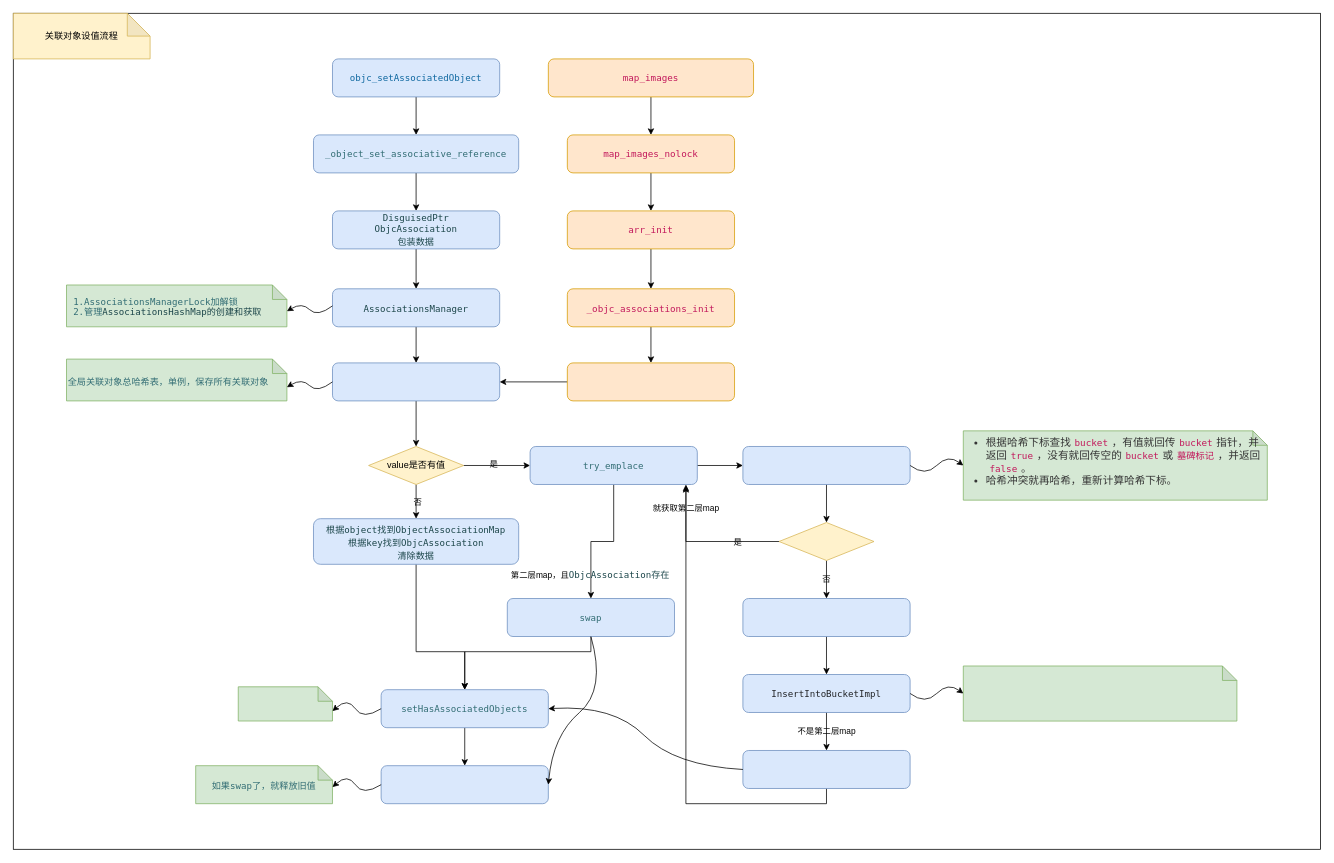
Some shapes in this 1334 by 863 pixel diagram are drawn without their labels. The box of each missing label's shape, as (x1, y1, x2, y2) in pixels:
::init(): (567, 362, 735, 401)
AssociationsHashMap: (332, 362, 500, 401)
InsertIntoBucket: (742, 598, 910, 636)
isFirstAssociation = true: (742, 750, 910, 788)
LookupBucketFor: (742, 446, 910, 484)
releaseHeldValue: (380, 765, 548, 804)
是否找到bucket: (778, 522, 874, 560)
标记有关联对象: (238, 686, 332, 721)
负载因子达到 3/4 时，进行 两 倍扩容。 已被占用加上墓碑标记数量为 7/8 时，重新开辟空间，将非墓碑标记换到新的 bucket 中。: (963, 665, 1237, 721)
